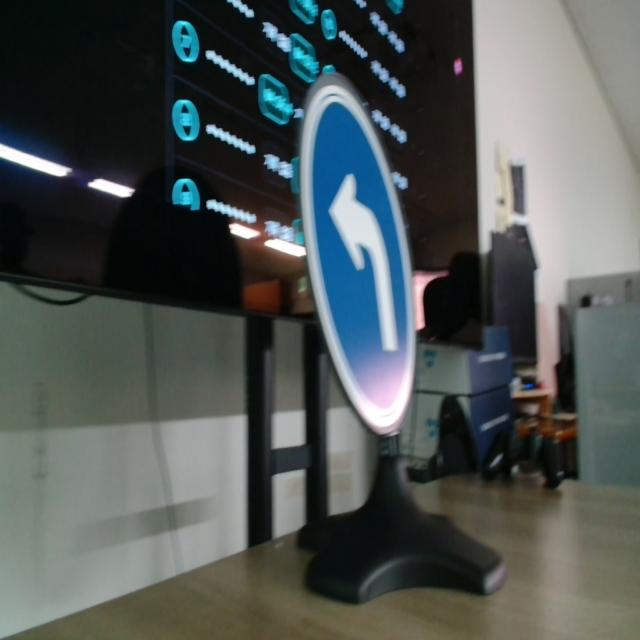left_direction: (282, 50, 433, 447)
